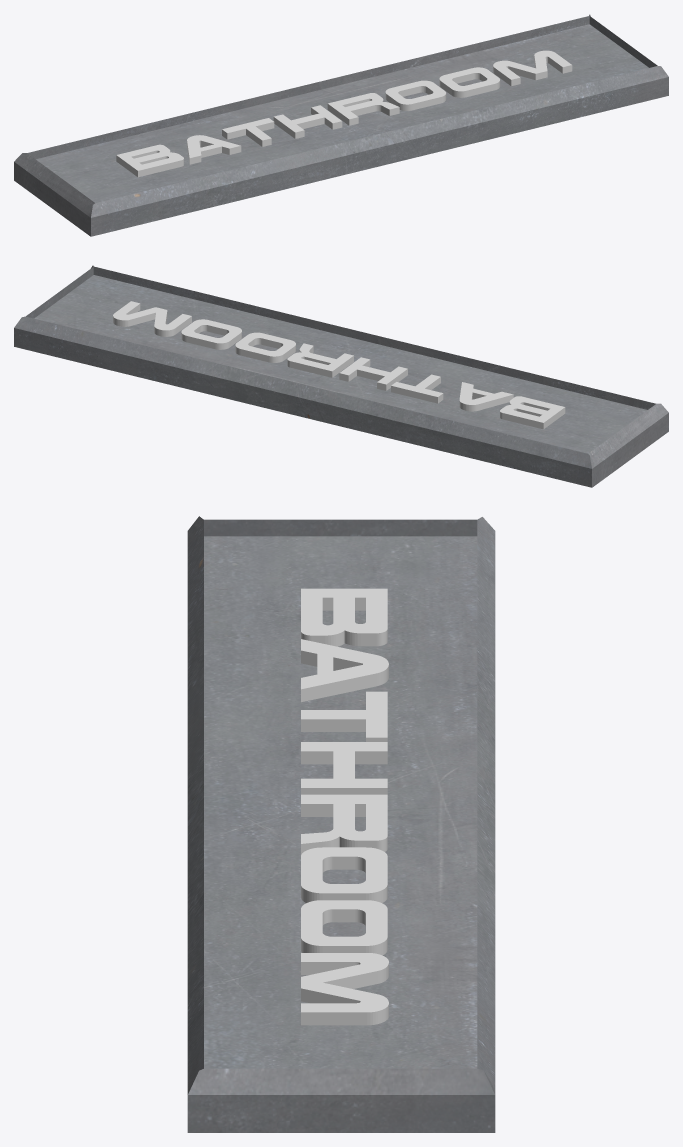
Rendered from Bathroom_Sign.fbx.
3 renders of one model, top to bottom at view 1: azimuth 30°, elevation 25°; view 2: azimuth 150°, elevation 25°; view 3: azimuth 270°, elevation 25°, orthographic. The views are drawn at different scales.
Parts seen in each view (by area): view 1: Box001, TextPlus002; view 2: Box001, TextPlus002; view 3: Box001, TextPlus002.
Boxes of the visible parts, box(x1,y1,x2,y2) form: Box001: box(14, 14, 668, 236); TextPlus002: box(116, 50, 572, 177); Box001: box(14, 265, 668, 487); TextPlus002: box(113, 301, 565, 429); Box001: box(187, 516, 495, 1132); TextPlus002: box(301, 588, 388, 1025).
Size of the model in its own units: 61.84 by 2.93 by 14.24.
1 material, 1 textured.
